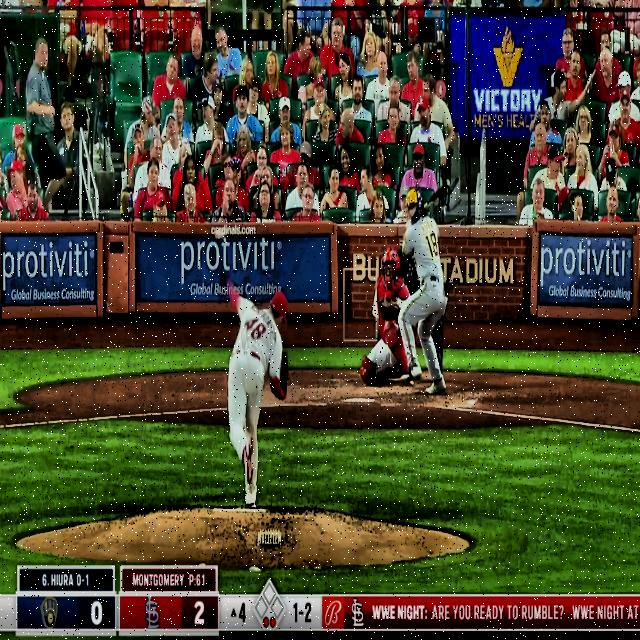baseball: (214, 223, 228, 243)
